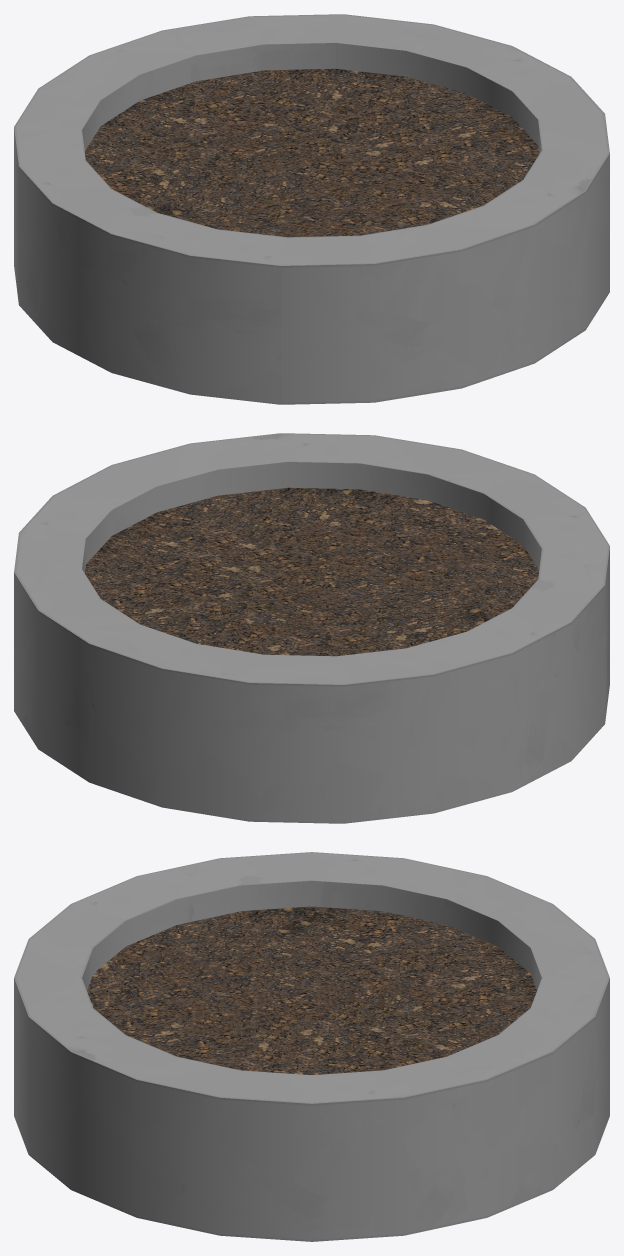
Rendered from BigPot 1.fbx.
3 renders of one model, top to bottom at view 1: azimuth 30°, elevation 25°; view 2: azimuth 150°, elevation 25°; view 3: azimuth 270°, elevation 25°, orthographic.
Parts seen in each view (by area): view 1: BigPot; view 2: BigPot; view 3: BigPot.
Boxes of the visible parts, bbox=[...] form: BigPot: bbox=[14, 14, 609, 404]; BigPot: bbox=[14, 433, 609, 823]; BigPot: bbox=[14, 852, 609, 1241].
Bounding box in the file's own units: 2.9 × 0.7415 × 2.9.
